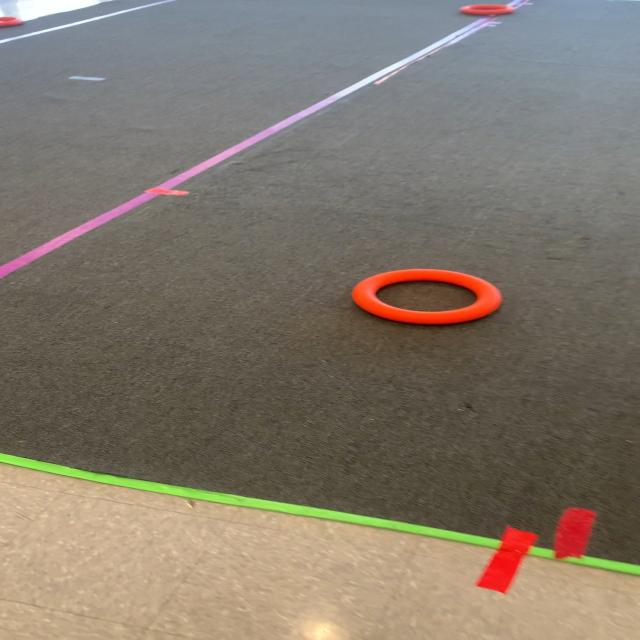notes: (356, 269, 502, 325), (461, 4, 520, 17)
